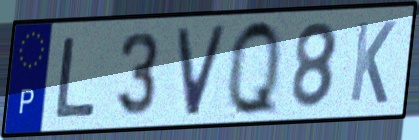3: (112, 29, 164, 117)
8: (288, 19, 340, 111)
K: (346, 18, 398, 107)
L: (52, 34, 99, 121)
Q: (226, 16, 283, 120)
V: (174, 21, 230, 119)
